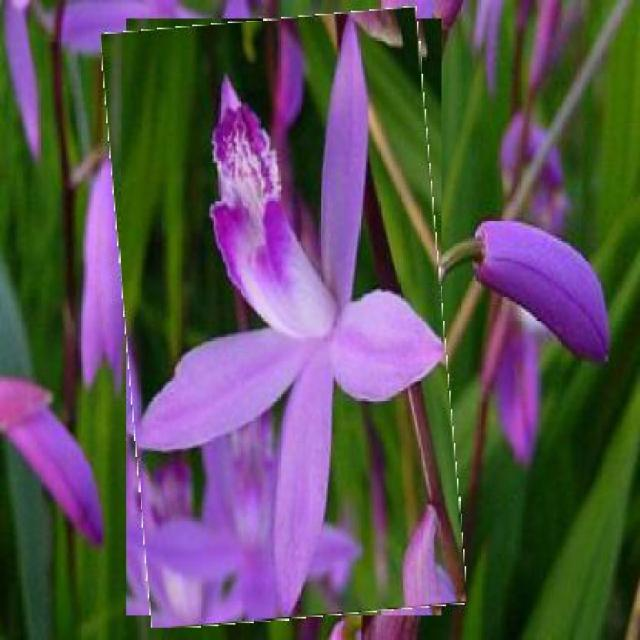Flower: (113, 12, 456, 623)
